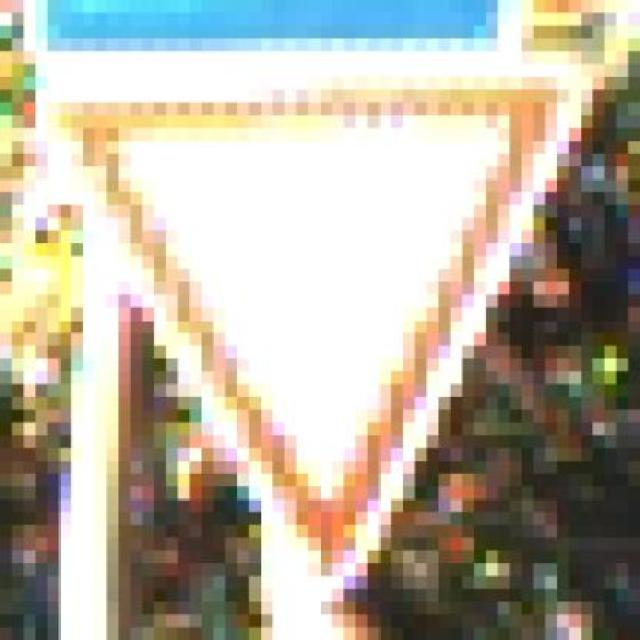Give Way: (44, 54, 613, 631)
